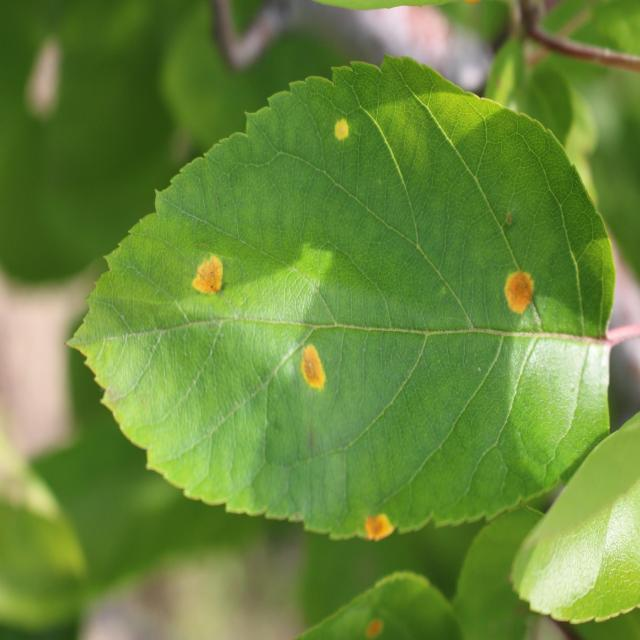Rust: (494, 260, 548, 322), (288, 328, 334, 398), (189, 251, 233, 306), (357, 505, 397, 557), (317, 103, 362, 149)
